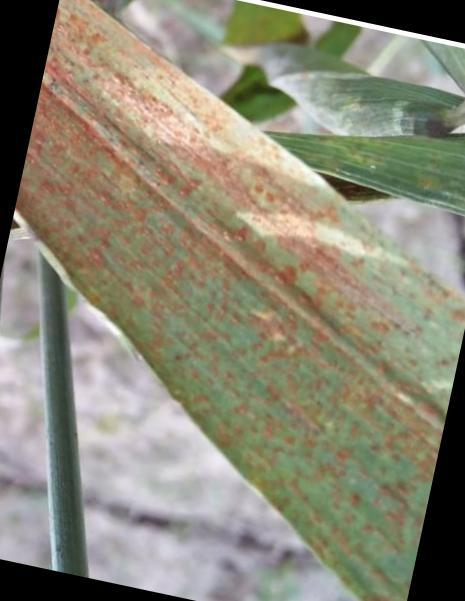Wheat: (23, 0, 305, 398), (210, 203, 446, 574)
